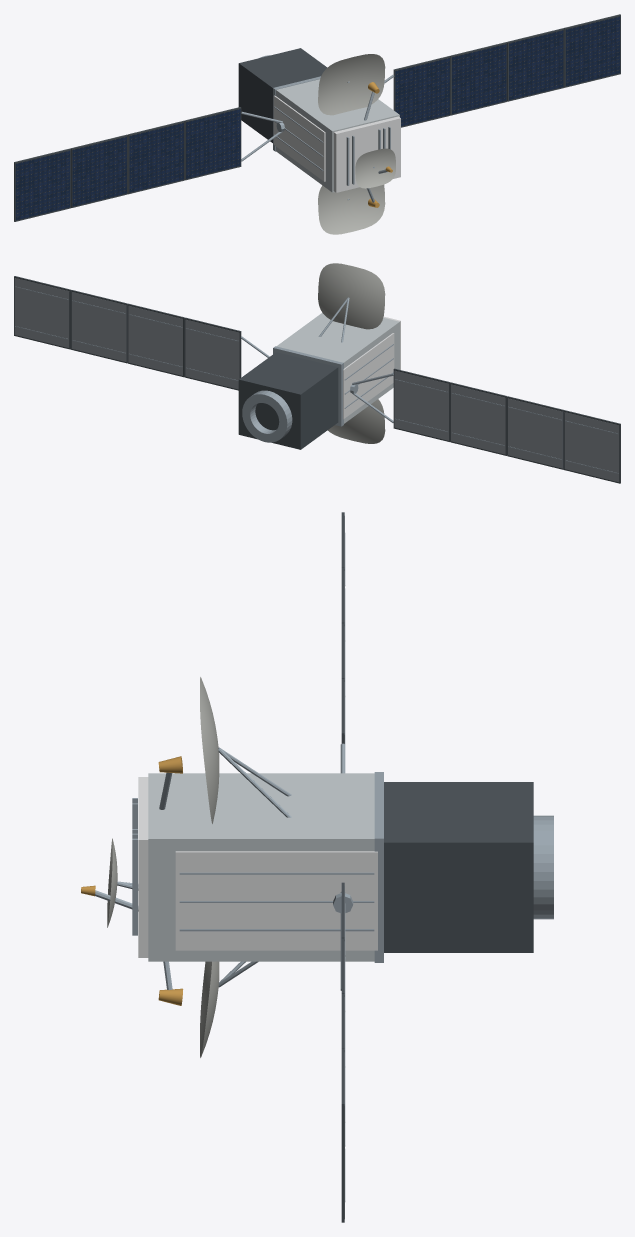
File: ref-star-2-3-39500.glb
3 renders of one model, top to bottom at view 1: azimuth 30°, elevation 25°; view 2: azimuth 150°, elevation 25°; view 3: azimuth 270°, elevation 25°, orthographic. The views are drawn at different scales.
Visible parts, largest first — view 1: Solar cell panel (×8), Communications reflector (×2), Service module, Solar panel frame (×8), Payload module, Earth-facing deck, Radiator face, Deck-mounted reflector; view 2: Rear array substrate (×8), Service module, Communications reflector (×2), Payload module, Solar panel frame (×8), Radiator face, Launch adapter ring, Module interface; view 3: Service module, Payload module, Radiator face, Communications reflector (×2), Launch adapter ring, Earth-facing deck, Module interface.
Boxes of the visible parts, left/top/right/bottom form: Solar cell panel (×8): left=15, top=16, right=620, bottom=220; Communications reflector (×2): left=318, top=54, right=385, bottom=234; Service module: left=238, top=48, right=327, bottom=142; Solar panel frame (×8): left=14, top=14, right=620, bottom=221; Payload module: left=276, top=79, right=399, bottom=192; Earth-facing deck: left=333, top=116, right=400, bottom=192; Radiator face: left=273, top=95, right=325, bottom=181; Deck-mounted reflector: left=355, top=148, right=395, bottom=188; Rear array substrate (×8): left=14, top=278, right=619, bottom=482; Service module: left=238, top=352, right=338, bottom=449; Communications reflector (×2): left=318, top=263, right=385, bottom=443; Payload module: left=276, top=312, right=399, bottom=423; Solar panel frame (×8): left=14, top=276, right=620, bottom=483; Radiator face: left=343, top=333, right=394, bottom=419; Launch adapter ring: left=242, top=390, right=292, bottom=442; Module interface: left=273, top=346, right=343, bottom=426; Service module: left=384, top=782, right=533, bottom=952; Payload module: left=148, top=773, right=374, bottom=961; Radiator face: left=175, top=851, right=377, bottom=950; Communications reflector (×2): left=200, top=677, right=219, bottom=1057; Launch adapter ring: left=533, top=815, right=553, bottom=919; Earth-facing deck: left=138, top=777, right=148, bottom=957; Module interface: left=374, top=772, right=383, bottom=962.
Bounding box in the file's own units: 17.98 × 4.95 × 6.08.
Materials: 8 (1 with a texture image).
